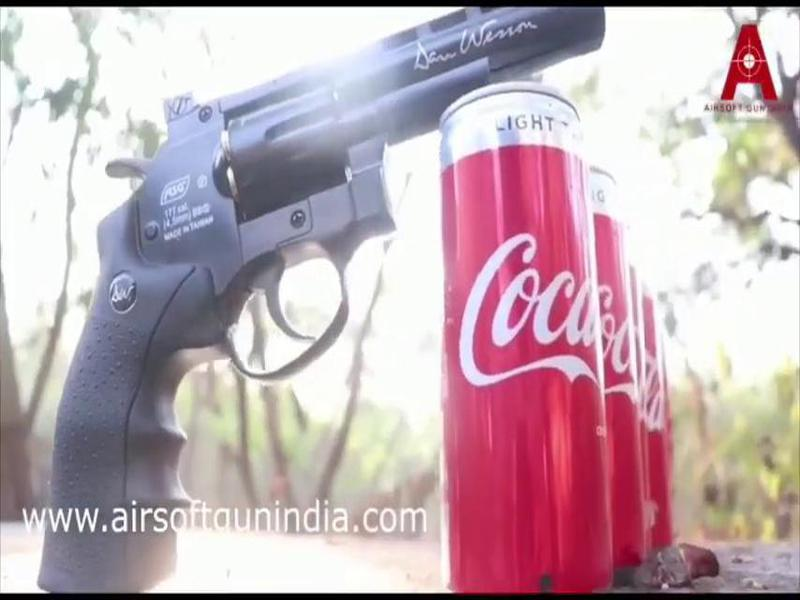Revolver: (19, 1, 663, 571)
